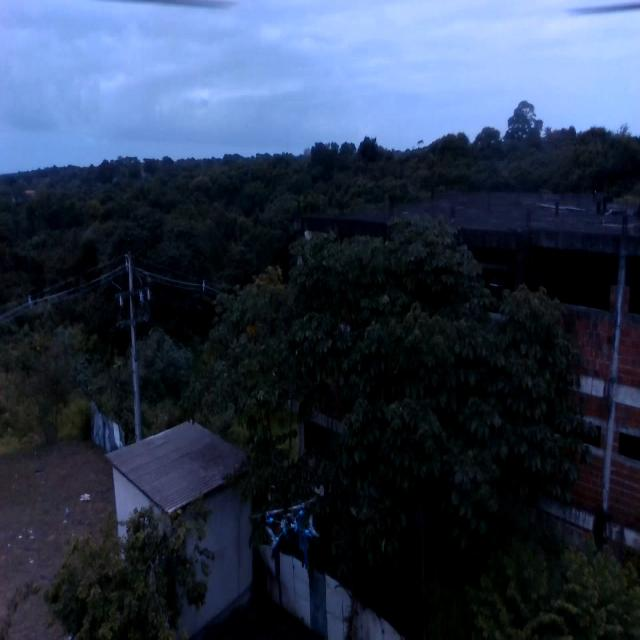-uav-: (252, 489, 332, 575)
